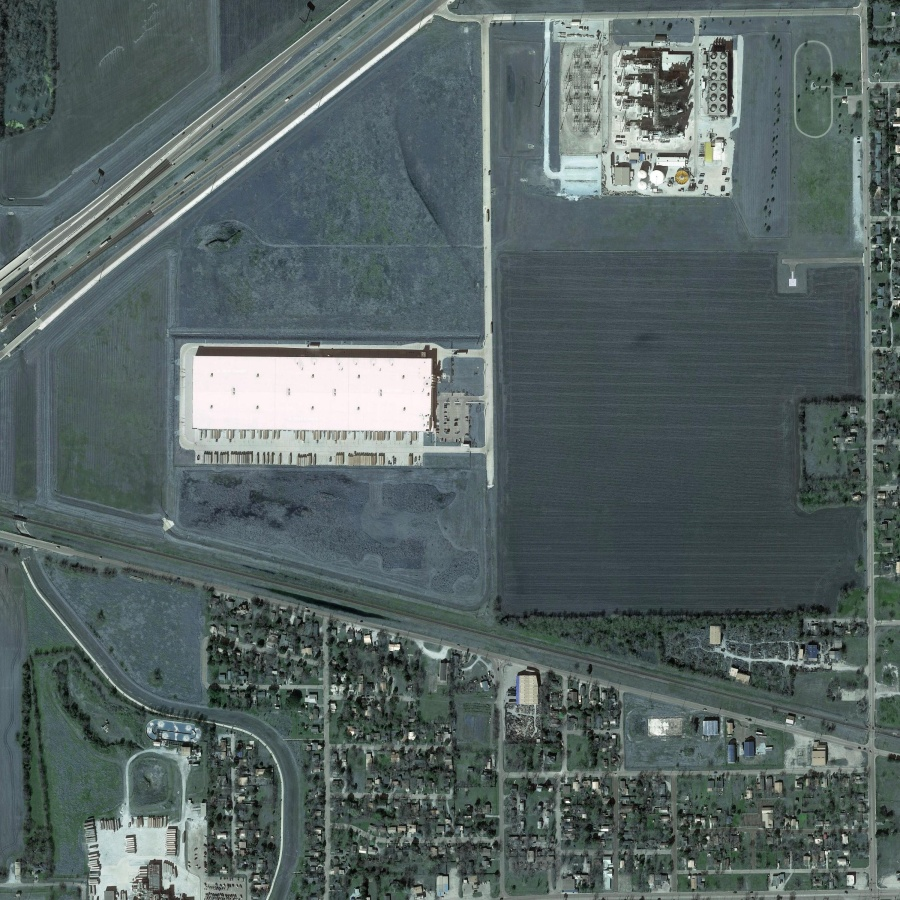PowerPlant: (546, 14, 740, 203)
